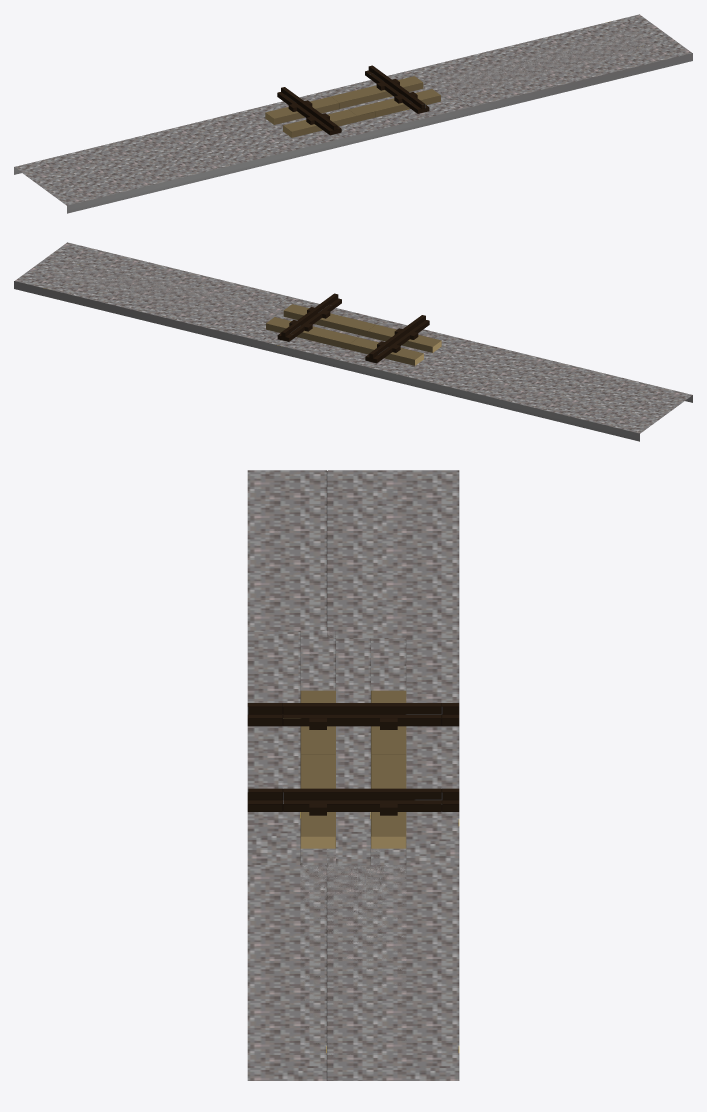
File: athen-rail-2.obj
3 views of the same model, one above another, from view 1: azimuth 30°, elevation 25°; view 2: azimuth 150°, elevation 25°; view 3: azimuth 270°, elevation 25° (orthographic). The views are drawn at different scales.
Visible parts, largest first — view 1: cube; view 2: cube; view 3: cube.
Boxes of the visible parts, box(x1,y1,x2,y2) form: cube: box(14, 14, 692, 213); cube: box(14, 242, 692, 441); cube: box(247, 470, 459, 1080).
Size of the model in its own units: 10.25 by 0.3452 by 1.5.
Materials: 1 (1 with a texture image).
